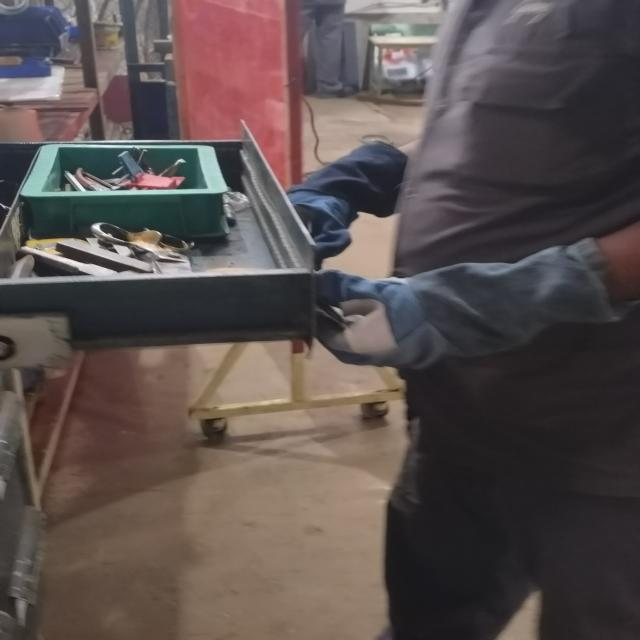Gloves-Detection: (303, 242, 617, 357), (286, 129, 382, 245)
